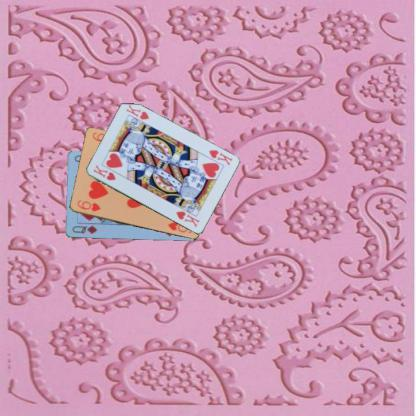6h: (74, 198, 102, 212)
Kh: (206, 147, 233, 167), (90, 163, 116, 182)
Qd: (70, 223, 98, 235)
